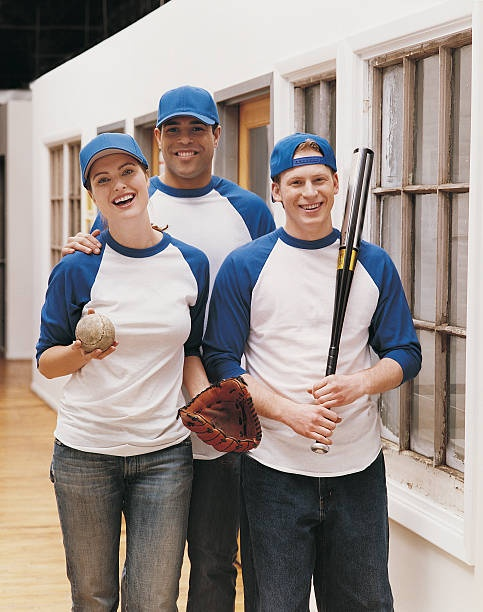bita: (321, 149, 375, 403)
